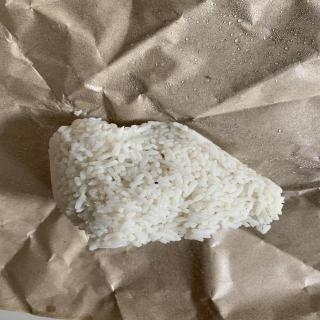Nasi: (50, 121, 284, 249)
